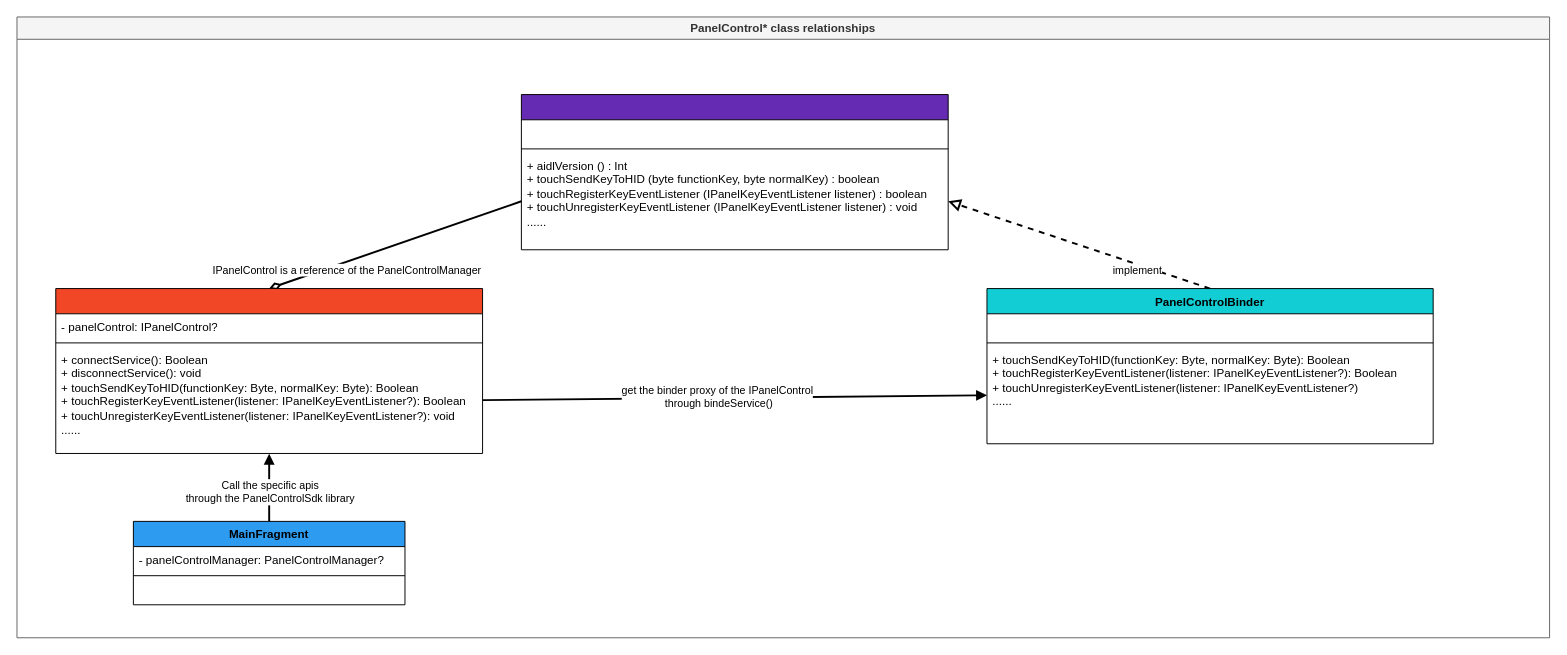
This 1567x655 diagram has some shape labels left out. The shapes that lost their labels are listed below. From the top down, each one's box as (x1, y1, x2, y2) in pixels, then its label:
(520, 94, 948, 250): IPanelControl.aidl
(55, 288, 483, 453): PanelControlManager
